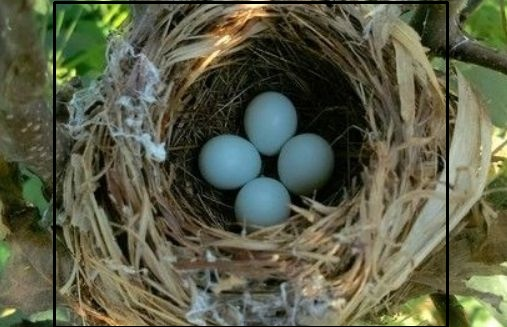bird-nest: (76, 1, 447, 315)
